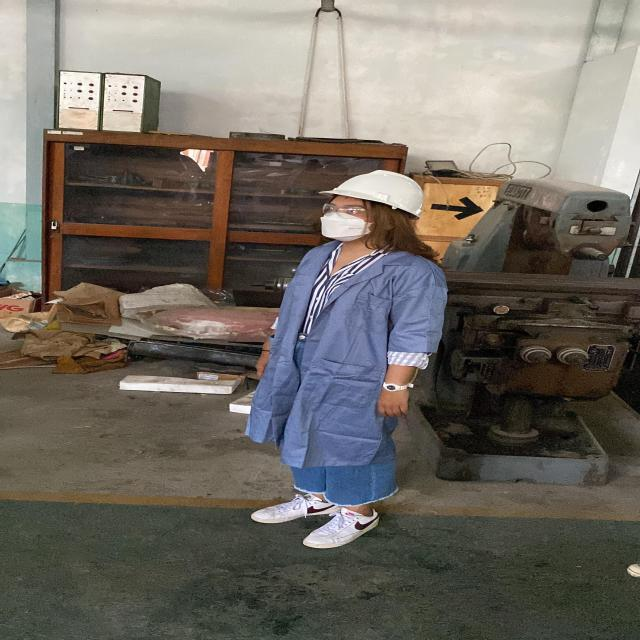glasses: (319, 200, 372, 220)
